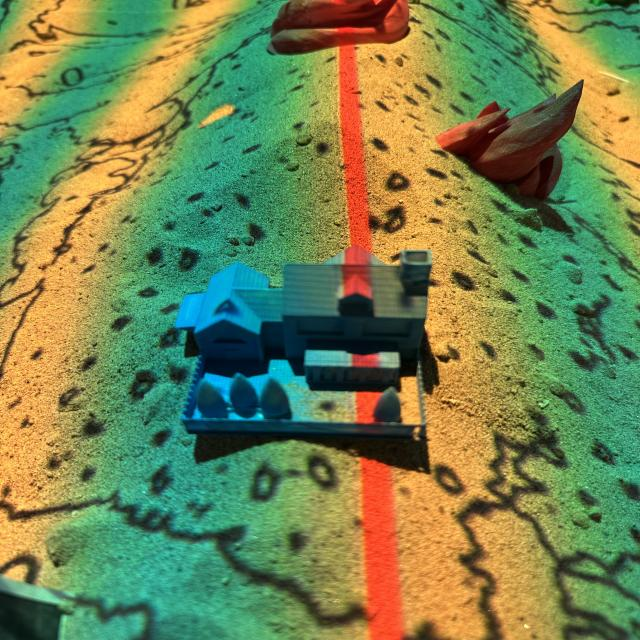fire: (436, 78, 586, 200), (269, 0, 415, 51)
house: (173, 243, 433, 440)
